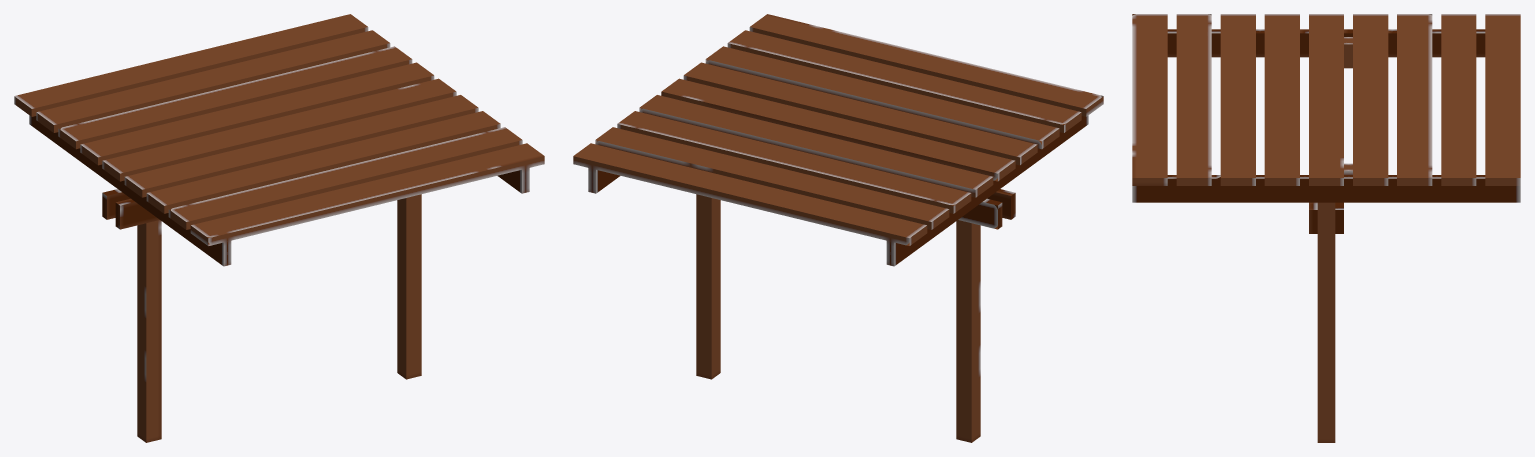
The model's file is TrapicheQuadradinho.fbx.
The picture shows the model from 3 angles, left to right: view 1: azimuth 30°, elevation 25°; view 2: azimuth 150°, elevation 25°; view 3: azimuth 270°, elevation 25°; orthographic projection.
Visible parts, largest first — view 1: Trapiches-0; view 2: Trapiches-0; view 3: Trapiches-0.
Part boxes in pixels (x1=…): Trapiches-0: x1=14, y1=14, x2=544, y2=442; Trapiches-0: x1=573, y1=14, x2=1103, y2=442; Trapiches-0: x1=1132, y1=14, x2=1520, y2=442.
Bounding box in the file's own units: 440 × 350 × 440.
Materials: 1 (1 with a texture image).
